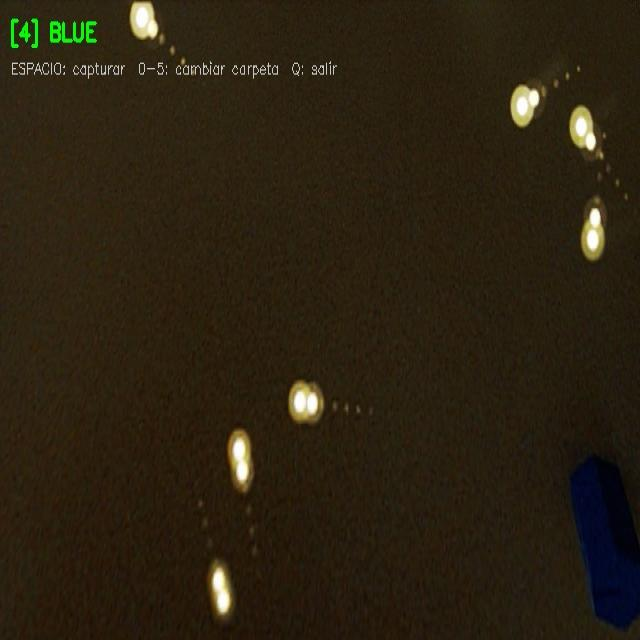blue: (567, 448, 639, 632)
